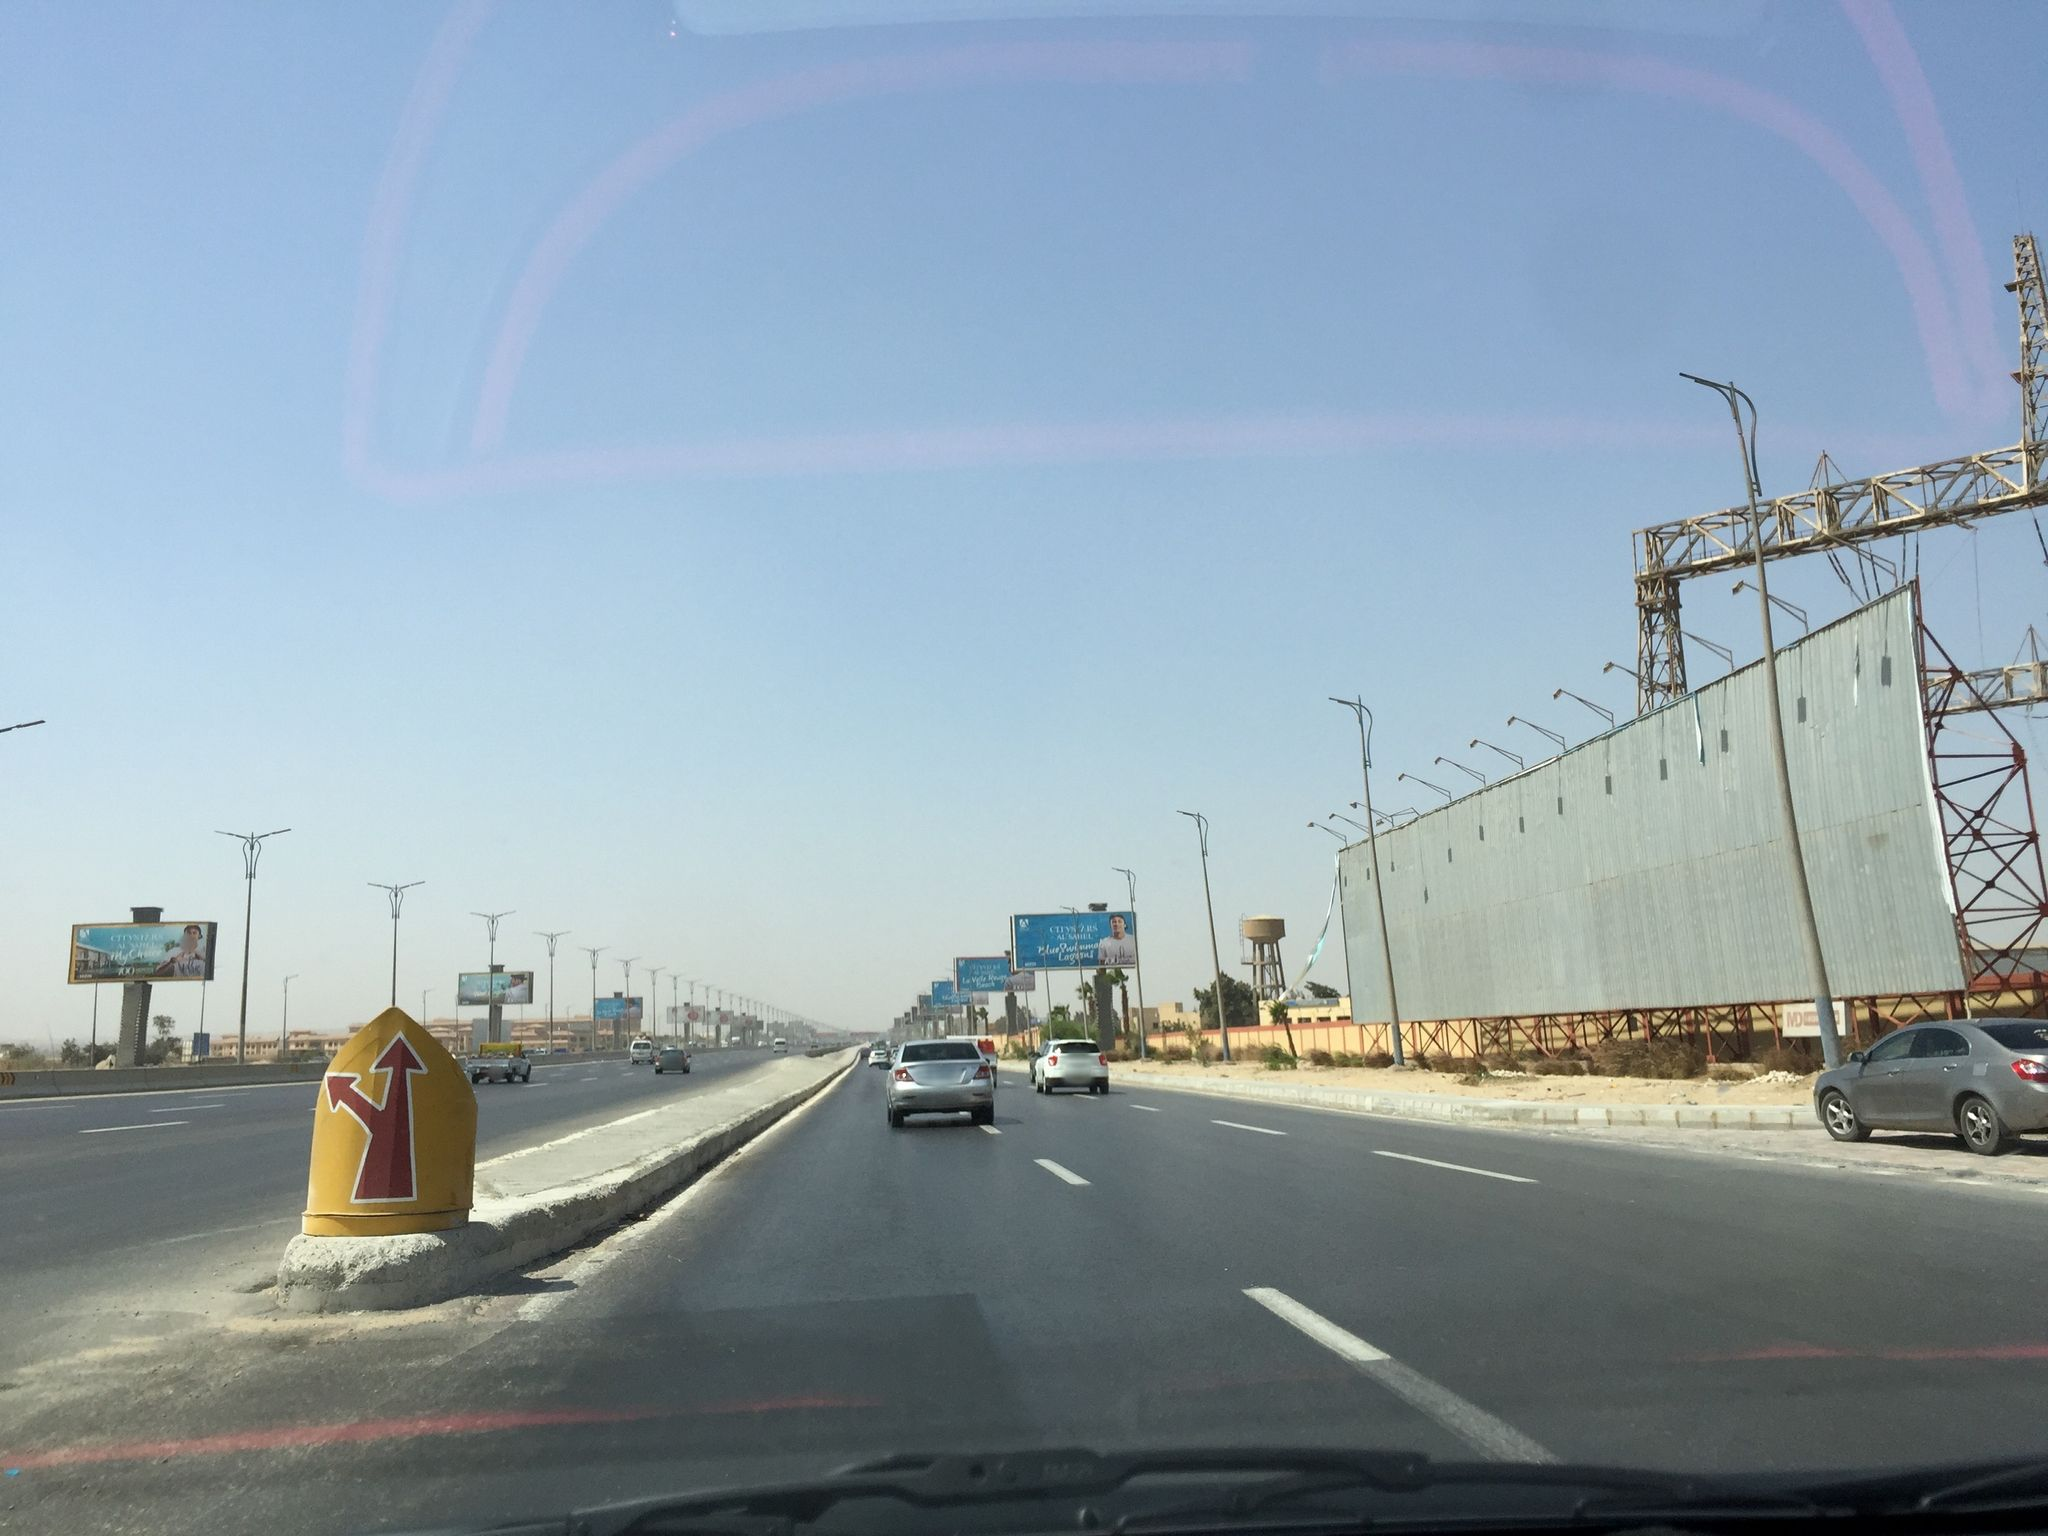car: (1813, 1015, 2048, 1155), (877, 1039, 995, 1128), (1034, 1037, 1109, 1096), (655, 1046, 689, 1075), (629, 1037, 655, 1063)
truck: (463, 1039, 532, 1084)
